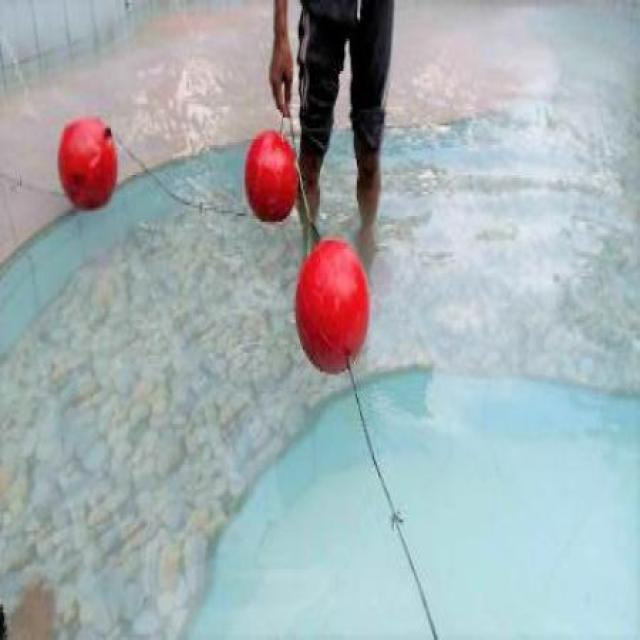buoy: (293, 235, 368, 372), (56, 116, 116, 213), (242, 128, 297, 222)
